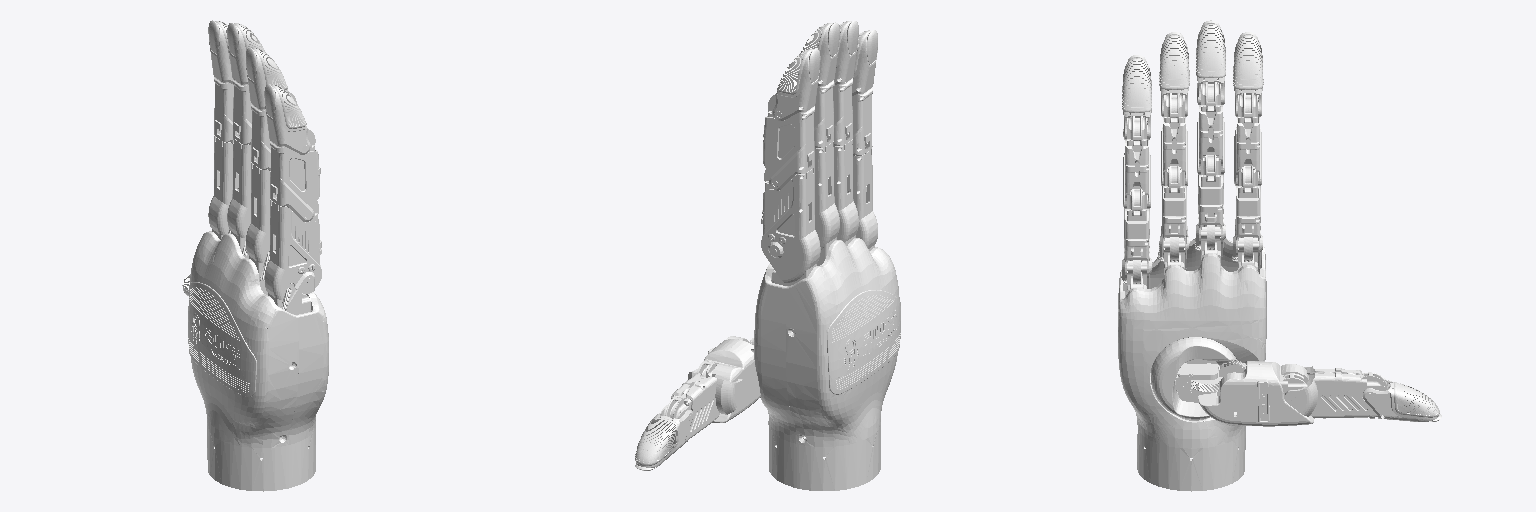
--- Render facts (derived) ---
The picture shows the robot from 3 angles, left to right: view 1: azimuth 30°, elevation 25°; view 2: azimuth 150°, elevation 25°; view 3: azimuth 270°, elevation 25°; orthographic projection.
Robot: L25-dof-urdf — 22 links, 21 joints (21 revolute); root link base_link; default pose: all joints at 0.
Visible links, largest first — view 1: base_link, little_joint1, little_joint2, little_joint3, ring_joint1, middle_joint1, index_joint1, ring_joint3, middle_joint3, index_joint2, index_joint3, ring_joint2 (+2 smaller); view 2: base_link, index_joint1, index_joint2, thumb_joint3, thumb_joint2, index_joint3, thumb_joint4, middle_joint1, ring_joint1, little_joint1, middle_joint3, little_joint3 (+4 smaller); view 3: base_link, thumb_joint2, thumb_joint0, thumb_joint3, thumb_joint4, middle_joint1, little_joint1, index_joint1, ring_joint1, little_joint2, index_joint2, middle_joint2 (+6 smaller).
Boxes of the visible links, bbox=[...] form: base_link: bbox=[188, 231, 328, 491]; little_joint1: bbox=[264, 199, 321, 299]; little_joint2: bbox=[270, 129, 320, 221]; little_joint3: bbox=[264, 85, 310, 154]; ring_joint1: bbox=[246, 162, 270, 262]; middle_joint1: bbox=[227, 138, 250, 237]; index_joint1: bbox=[208, 135, 232, 235]; ring_joint3: bbox=[246, 48, 288, 109]; middle_joint3: bbox=[227, 23, 265, 83]; index_joint2: bbox=[214, 76, 233, 142]; index_joint3: bbox=[208, 20, 232, 83]; ring_joint2: bbox=[251, 92, 296, 170]; base_link: bbox=[754, 238, 900, 490]; index_joint1: bbox=[761, 167, 820, 282]; index_joint2: bbox=[763, 94, 814, 190]; thumb_joint3: bbox=[660, 369, 745, 443]; thumb_joint2: bbox=[694, 336, 760, 422]; index_joint3: bbox=[773, 49, 820, 120]; thumb_joint4: bbox=[635, 405, 692, 470]; middle_joint1: bbox=[815, 141, 839, 249]; ring_joint1: bbox=[834, 139, 858, 241]; little_joint1: bbox=[853, 149, 877, 248]; middle_joint3: bbox=[801, 22, 839, 85]; little_joint3: bbox=[852, 30, 877, 95]; base_link: bbox=[1118, 238, 1266, 491]; thumb_joint2: bbox=[1198, 361, 1314, 426]; thumb_joint0: bbox=[1151, 337, 1237, 419]; thumb_joint3: bbox=[1285, 366, 1387, 418]; thumb_joint4: bbox=[1363, 380, 1441, 421]; middle_joint1: bbox=[1196, 155, 1225, 256]; little_joint1: bbox=[1122, 189, 1151, 288]; index_joint1: bbox=[1233, 166, 1262, 268]; ring_joint1: bbox=[1160, 166, 1188, 268]; little_joint2: bbox=[1123, 114, 1150, 208]; index_joint2: bbox=[1234, 91, 1261, 185]; middle_joint2: bbox=[1197, 82, 1224, 174].
Bounding box of the posed robot: 0.0835 × 0.1918 × 0.287 m (x, y, z).
Meshes: 22 distinct files referenced, 22 mesh visuals loaded (22 binary STL).

URDF robot description (L25-dof-urdf):
<?xml version="1.0" encoding="utf-8"?>
<!-- This URDF was automatically created by SolidWorks to URDF Exporter! Originally created by Stephen Brawner ([email redacted]) 
     Commit Version: 1.6.0-1-g15f4949  Build Version: 1.6.7594.29634
     For more information, please see http://wiki.ros.org/sw_urdf_exporter -->
<robot
  name="L25-dof-urdf">
  <link
    name="base_link">
    <inertial>
      <origin
        xyz="0.00621503226470385 0.0108465601453257 0.132265837138919"
        rpy="0 0 0" />
      <mass
        value="0.32877219415425" />
      <inertia
        ixx="0.00211933247724318"
        ixy="-9.55589501729291E-05"
        ixz="0.000118349663792249"
        iyy="0.00182200011902475"
        iyz="0.000195769075826641"
        izz="0.000521225707663844" />
    </inertial>
    <visual>
      <origin
        xyz="0 0 0"
        rpy="0 0 0" />
      <geometry>
        <mesh
          filename="meshes/base_link.STL" />
      </geometry>
      <material
        name="">
        <color
          rgba="1 1 1 1" />
      </material>
    </visual>
    <!-- <collision>
      <origin
        xyz="0 0 0"
        rpy="0 0 0" />
      <geometry>
        <mesh
          filename="meshes/base_link.STL" />
      </geometry>
    </collision> -->
  </link>
  <link
    name="little_joint0">
    <inertial>
      <origin
        xyz="0.020716 0.042933 0.014018"
        rpy="0 0 0" />
      <mass
        value="0.32877" />
      <inertia
        ixx="0.0021193"
        ixy="-9.5606E-05"
        ixz="0.00011832"
        iyy="0.0018219"
        iyz="0.00019626"
        izz="0.00052137" />
    </inertial>
    <visual>
      <origin
        xyz="0 0 0"
        rpy="0 0 0" />
      <geometry>
        <mesh
          filename="meshes/little_joint0.STL" />
      </geometry>
      <material
        name="">
        <color
          rgba="1 1 1 1" />
      </material>
    </visual>
    <collision>
      <origin
        xyz="0 0 0"
        rpy="0 0 0" />
      <geometry>
        <mesh
          filename="meshes/little_joint0.STL" />
      </geometry>
    </collision>
  </link>
  <joint
    name="little_joint0"
    type="revolute">
    <origin
      xyz="-0.0145009562193206 -0.0320919792691349 0.118263878374773"
      rpy="-0.00037803547605537 0 0" />
    <parent
      link="base_link" />
    <child
      link="little_joint0" />
    <axis
      xyz="-1 0 0" />
    <limit
      lower="-0.18"
      upper="0"
      effort="100"
      velocity="1" />
  </joint>
  <link
    name="little_joint1">
    <inertial>
      <origin
        xyz="-0.00214168609263107 0.0485330860849423 -0.00405674315364571"
        rpy="0 0 0" />
      <mass
        value="0.32877219415425" />
      <inertia
        ixx="0.00211933102791474"
        ixy="-9.56059385437907E-05"
        ixz="0.000118315018274888"
        iyy="0.00182185336716098"
        iyz="0.00019625986190147"
        izz="0.000521373908856054" />
    </inertial>
    <visual>
      <origin
        xyz="0 0 0"
        rpy="0 0 0" />
      <geometry>
        <mesh
          filename="meshes/little_joint1.STL" />
      </geometry>
      <material
        name="">
        <color
          rgba="1 1 1 1" />
      </material>
    </visual>
    <collision>
      <origin
        xyz="0 0 0"
        rpy="0 0 0" />
      <geometry>
        <mesh
          filename="meshes/little_joint1.STL" />
      </geometry>
    </collision>
  </link>
  <joint
    name="little_joint1"
    type="revolute">
    <origin
      xyz="0.0228580000009321 -0.00559999999977892 0.01807493320808"
      rpy="0 0 0" />
    <parent
      link="little_joint0" />
    <child
      link="little_joint1" />
    <axis
      xyz="0 -1 0" />
    <limit
      lower="-1.57"
      upper="0"
      effort="100"
      velocity="1" />
  </joint>
  <link
    name="little_joint2">
    <inertial>
      <origin
        xyz="-0.00198368601332251 0.0489330860866223 -0.046056743261512"
        rpy="0 0 0" />
      <mass
        value="0.32877219415425" />
      <inertia
        ixx="0.00211933102791212"
        ixy="-9.56059385478664E-05"
        ixz="0.000118315018277577"
        iyy="0.0018218533671636"
        iyz="0.000196259861899849"
        izz="0.000521373908856054" />
    </inertial>
    <visual>
      <origin
        xyz="0 0 0"
        rpy="0 0 0" />
      <geometry>
        <mesh
          filename="meshes/little_joint2.STL" />
      </geometry>
      <material
        name="">
        <color
          rgba="1 1 1 1" />
      </material>
    </visual>
    <collision>
      <origin
        xyz="0 0 0"
        rpy="0 0 0" />
      <geometry>
        <mesh
          filename="meshes/little_joint2.STL" />
      </geometry>
    </collision>
  </link>
  <joint
    name="little_joint2"
    type="revolute">
    <origin
      xyz="-0.000158 -0.0004 0.042"
      rpy="0 0 0" />
    <parent
      link="little_joint1" />
    <child
      link="little_joint2" />
    <axis
      xyz="0 -1 0" />
    <limit
      lower="-1.57"
      upper="0"
      effort="100"
      velocity="1" />
  </joint>
  <link
    name="little_joint3">
    <inertial>
      <origin
        xyz="0.00120154771320423 0.0489330860812678 -0.0902886576532678"
        rpy="0 0 0" />
      <mass
        value="0.32877219415425" />
      <inertia
        ixx="0.00211691244010353"
        ixy="-9.74854641911423E-05"
        ixz="0.000133631559114514"
        iyy="0.0018218533671397"
        iyz="0.00019533308265496"
        izz="0.000523792496688547" />
    </inertial>
    <visual>
      <origin
        xyz="0 0 0"
        rpy="0 0 0" />
      <geometry>
        <mesh
          filename="meshes/little_joint3.STL" />
      </geometry>
      <material
        name="">
        <color
          rgba="1 1 1 1" />
      </material>
    </visual>
    <collision>
      <origin
        xyz="0 0 0"
        rpy="0 0 0" />
      <geometry>
        <mesh
          filename="meshes/little_joint3.STL" />
      </geometry>
    </collision>
  </link>
  <joint
    name="little_joint3"
    type="revolute">
    <origin
      xyz="-0.00231848278489424 0 0.0442392883752598"
      rpy="0 0.00959931088167996 0" />
    <parent
      link="little_joint2" />
    <child
      link="little_joint3" />
    <axis
      xyz="0 -1 0" />
    <limit
      lower="-1.57"
      upper="0"
      effort="100"
      velocity="1" />
  </joint>
  <link
    name="ring_joint0">
    <inertial>
      <origin
        xyz="0.0207161581862009 0.0208330850380634 -0.000919748012983387"
        rpy="0 0 0" />
      <mass
        value="0.32877219415425" />
      <inertia
        ixx="0.00211933249194902"
        ixy="-9.56036651402447E-05"
        ixz="0.000118313512090546"
        iyy="0.001821851888846"
        iyz="0.000196260815112059"
        izz="0.000521373923136746" />
    </inertial>
    <visual>
      <origin
        xyz="0 0 0"
        rpy="0 0 0" />
      <geometry>
        <mesh
          filename="meshes/ring_joint0.STL" />
      </geometry>
      <material
        name="">
        <color
          rgba="1 1 1 1" />
      </material>
    </visual>
    <collision>
      <origin
        xyz="0 0 0"
        rpy="0 0 0" />
      <geometry>
        <mesh
          filename="meshes/ring_joint0.STL" />
      </geometry>
    </collision>
  </link>
  <joint
    name="ring_joint0"
    type="revolute">
    <origin
      xyz="-0.014501 -0.0099862 0.13319"
      rpy="-0.00037807 0 0" />
    <parent
      link="base_link" />
    <child
      link="ring_joint0" />
    <axis
      xyz="-1 0 0" />
    <limit
      lower="-0.18"
      upper="0"
      effort="100"
      velocity="1" />
  </joint>
  <link
    name="ring_joint1">
    <inertial>
      <origin
        xyz="-0.00214168230263926 0.026432926419807 -0.0189946812210613"
        rpy="0 0 0" />
      <mass
        value="0.32877219415425" />
      <inertia
        ixx="0.00211933102791426"
        ixy="-9.56059428490103E-05"
        ixz="0.00011831501479742"
        iyy="0.00182185335288077"
        iyz="0.000196259909215142"
        izz="0.000521373923136746" />
    </inertial>
    <visual>
      <origin
        xyz="0 0 0"
        rpy="0 0 0" />
      <geometry>
        <mesh
          filename="meshes/ring_joint1.STL" />
      </geometry>
      <material
        name="">
        <color
          rgba="1 1 1 1" />
      </material>
    </visual>
    <collision>
      <origin
        xyz="0 0 0"
        rpy="0 0 0" />
      <geometry>
        <mesh
          filename="meshes/ring_joint1.STL" />
      </geometry>
    </collision>
  </link>
  <joint
    name="ring_joint1"
    type="revolute">
    <origin
      xyz="0.0228580428777866 -0.00559982498274811 0.0180749332080779"
      rpy="0 0 0" />
    <parent
      link="ring_joint0" />
    <child
      link="ring_joint1" />
    <axis
      xyz="0 -1 0" />
    <limit
      lower="-1.57"
      upper="0"
      effort="100"
      velocity="1" />
  </joint>
  <link
    name="ring_joint2">
    <inertial>
      <origin
        xyz="-0.00198368223059876 0.026832926418296 -0.0609946813442873"
        rpy="0 0 0" />
      <mass
        value="0.32877219415425" />
      <inertia
        ixx="0.00211933102791205"
        ixy="-9.56059428524492E-05"
        ixz="0.000118315014799689"
        iyy="0.00182185335288298"
        iyz="0.000196259909213774"
        izz="0.000521373923136746" />
    </inertial>
    <visual>
      <origin
        xyz="0 0 0"
        rpy="0 0 0" />
      <geometry>
        <mesh
          filename="meshes/ring_joint2.STL" />
      </geometry>
      <material
        name="">
        <color
          rgba="1 1 1 1" />
      </material>
    </visual>
    <collision>
      <origin
        xyz="0 0 0"
        rpy="0 0 0" />
      <geometry>
        <mesh
          filename="meshes/ring_joint2.STL" />
      </geometry>
    </collision>
  </link>
  <joint
    name="ring_joint2"
    type="revolute">
    <origin
      xyz="-0.000158000071730313 -0.000399999998466016 0.042000000123226"
      rpy="0 0 0" />
    <parent
      link="ring_joint1" />
    <child
      link="ring_joint2" />
    <axis
      xyz="0 -1 0" />
    <limit
      lower="-1.57"
      upper="0"
      effort="100"
      velocity="1" />
  </joint>
  <link
    name="ring_joint3">
    <inertial>
      <origin
        xyz="-0.0169477765801979 0.0268329263415627 -0.103860836482852"
        rpy="0 0 0" />
      <mass
        value="0.32877219415425" />
      <inertia
        ixx="0.0021145786799758"
        ixy="-6.20852034907064E-05"
        ixz="-0.000146866967522173"
        iyy="0.00182185335319532"
        iyz="0.000209293753590955"
        izz="0.000526126270760653" />
    </inertial>
    <visual>
      <origin
        xyz="0 0 0"
        rpy="0 0 0" />
      <geometry>
        <mesh
          filename="meshes/ring_joint3.STL" />
      </geometry>
      <material
        name="">
        <color
          rgba="1 1 1 1" />
      </material>
    </visual>
    <collision>
      <origin
        xyz="0 0 0"
        rpy="0 0 0" />
      <geometry>
        <mesh
          filename="meshes/ring_joint3.STL" />
      </geometry>
    </collision>
  </link>
  <joint
    name="ring_joint3"
    type="revolute">
    <origin
      xyz="-0.0023184828540642 0 0.0442392884056311"
      rpy="0 -0.164933614843137 0" />
    <parent
      link="ring_joint2" />
    <child
      link="ring_joint3" />
    <axis
      xyz="0 -1 0" />
    <limit
      lower="-1.57"
      upper="0"
      effort="100"
      velocity="1" />
  </joint>
  <link
    name="middle_joint0">
    <inertial>
      <origin
        xyz="0.0207292141880982 -0.000766915979385691 -0.00841975476288125"
        rpy="0 0 0" />
      <mass
        value="0.32877219415425" />
      <inertia
        ixx="0.00211933102791433"
        ixy="-9.56059192600446E-05"
        ixz="0.000118315033858293"
        iyy="0.00182185343113886"
        iyz="0.000196259649933689"
        izz="0.000521373844878583" />
    </inertial>
    <visual>
      <origin
        xyz="0 0 0"
        rpy="0 0 0" />
      <geometry>
        <mesh
          filename="meshes/middle_joint0.STL" />
      </geometry>
      <material
        name="">
        <color
          rgba="1 1 1 1" />
      </material>
    </visual>
    <collision>
      <origin
        xyz="0 0 0"
        rpy="0 0 0" />
      <geometry>
        <mesh
          filename="meshes/middle_joint0.STL" />
      </geometry>
    </collision>
  </link>
  <joint
    name="middle_joint0"
    type="revolute">
    <origin
      xyz="-0.014514 0.011617 0.14069"
      rpy="-0.00037787 0 0" />
    <parent
      link="base_link" />
    <child
      link="middle_joint0" />
    <axis
      xyz="-1 0 0" />
    <limit
      lower="0"
      upper="0"
      effort="100"
      velocity="1" />
  </joint>
  <link
    name="middle_joint1">
    <inertial>
      <origin
        xyz="-0.00212878581283385 0.00483308539274485 -0.0264946880959601"
        rpy="0 0 0" />
      <mass
        value="0.32877219415425" />
      <inertia
        ixx="0.00211933102791433"
        ixy="-9.56059385444273E-05"
        ixz="0.000118315018275308"
        iyy="0.00182185336716139"
        iyz="0.000196259861901214"
        izz="0.000521373908856053" />
    </inertial>
    <visual>
      <origin
        xyz="0 0 0"
        rpy="0 0 0" />
      <geometry>
        <mesh
          filename="meshes/middle_joint1.STL" />
      </geometry>
      <material
        name="">
        <color
          rgba="1 1 1 1" />
      </material>
    </visual>
    <collision>
      <origin
        xyz="0 0 0"
        rpy="0 0 0" />
      <geometry>
        <mesh
          filename="meshes/middle_joint1.STL" />
      </geometry>
    </collision>
  </link>
  <joint
    name="middle_joint1"
    type="revolute">
    <origin
      xyz="0.0228580000009321 -0.00559999705371297 0.0180749341208319"
      rpy="0 0 0" />
    <parent
      link="middle_joint0" />
    <child
      link="middle_joint1" />
    <axis
      xyz="0 -1 0" />
    <limit
      lower="-1.57"
      upper="0"
      effort="100"
      velocity="1" />
  </joint>
  <link
    name="middle_joint2">
    <inertial>
      <origin
        xyz="-0.00197078574782578 0.00523308539310241 -0.0684946882012683"
        rpy="0 0 0" />
      <mass
        value="0.32877219415425" />
      <inertia
        ixx="0.00211933102791212"
        ixy="-9.56059385478662E-05"
        ixz="0.000118315018277577"
        iyy="0.0018218533671636"
        iyz="0.000196259861899847"
        izz="0.000521373908856053" />
    </inertial>
    <visual>
      <origin
        xyz="0 0 0"
        rpy="0 0 0" />
      <geometry>
        <mesh
          filename="meshes/middle_joint2.STL" />
      </geometry>
      <material
        name="">
        <color
          rgba="1 1 1 1" />
      </material>
    </visual>
    <collision>
      <origin
        xyz="0 0 0"
        rpy="0 0 0" />
      <geometry>
        <mesh
          filename="meshes/middle_joint2.STL" />
      </geometry>
    </collision>
  </link>
  <joint
    name="middle_joint2"
    type="revolute">
    <origin
      xyz="-0.000158000064947573 -0.000400000000334799 0.0420000001053081"
      rpy="0 0 0" />
    <parent
      link="middle_joint1" />
    <child
      link="middle_joint2" />
    <axis
      xyz="0 -1 0" />
    <limit
      lower="-1.57"
      upper="0"
      effort="100"
      velocity="1" />
  </joint>
  <link
    name="middle_joint3">
    <inertial>
      <origin
        xyz="-0.0181664575857065 0.00523308527418029 -0.111261180105638"
        rpy="0 0 0" />
      <mass
        value="0.32877219415425" />
      <inertia
        ixx="0.00211457868071744"
        ixy="-6.20852070128642E-05"
        ixz="-0.000146866966544686"
        iyy="0.00182185336747595"
        iyz="0.000209293706212363"
        izz="0.000526126255738385" />
    </inertial>
    <visual>
      <origin
        xyz="0 0 0"
        rpy="0 0 0" />
      <geometry>
        <mesh
          filename="meshes/middle_joint3.STL" />
      </geometry>
      <material
        name="">
        <color
          rgba="1 1 1 1" />
      </material>
    </visual>
    <collision>
      <origin
        xyz="0 0 0"
        rpy="0 0 0" />
      <geometry>
        <mesh
          filename="meshes/middle_joint3.STL" />
      </geometry>
    </collision>
  </link>
  <joint
    name="middle_joint3"
    type="revolute">
    <origin
      xyz="-0.00231848285406422 0 0.0442392884222843"
      rpy="0 -0.164933614843136 0" />
    <parent
      link="middle_joint2" />
    <child
      link="middle_joint3" />
    <axis
      xyz="0 -1 0" />
    <limit
      lower="-1.57"
      upper="0"
      effort="100"
      velocity="1" />
  </joint>
  <link
    name="index_joint0">
    <inertial>
      <origin
        xyz="0.0207153675602789 -0.0228669147554812 -0.000919751158314445"
        rpy="0 0 0" />
      <mass
        value="0.32877219415425" />
      <inertia
        ixx="0.00211933102791433"
        ixy="-9.56059192600444E-05"
        ixz="0.000118315033858293"
        iyy="0.00182185343113886"
        iyz="0.000196259649933687"
        izz="0.000521373844878583" />
    </inertial>
    <visual>
      <origin
        xyz="0 0 0"
        rpy="0 0 0" />
      <geometry>
        <mesh
          filename="meshes/index_joint0.STL" />
      </geometry>
      <material
        name="">
        <color
          rgba="1 1 1 1" />
      </material>
    </visual>
    <collision>
      <origin
        xyz="0 0 0"
        rpy="0 0 0" />
      <geometry>
        <mesh
          filename="meshes/index_joint0.STL" />
      </geometry>
    </collision>
  </link>
  <joint
    name="index_joint0"
    type="revolute">
    <origin
      xyz="-0.014501 0.033714 0.13318"
      rpy="-0.00037787 0 0" />
    <parent
      link="base_link" />
    <child
      link="index_joint0" />
    <axis
      xyz="-1 0 0" />
    <limit
      lower="0"
      upper="0.18"
      effort="100"
      velocity="1" />
  </joint>
  <link
    name="index_joint1">
    <inertial>
      <origin
        xyz="-0.00214263244065325 -0.0172669146057896 -0.0189946880935125"
        rpy="0 0 0" />
      <mass
        value="0.32877219415425" />
      <inertia
        ixx="0.00211933102791433"
        ixy="-9.56059385444273E-05"
        ixz="0.000118315018275309"
        iyy="0.00182185336716139"
        iyz="0.000196259861901214"
        izz="0.000521373908856053" />
    </inertial>
    <visual>
      <origin
        xyz="0 0 0"
        rpy="0 0 0" />
      <geometry>
        <mesh
          filename="meshes/index_joint1.STL" />
      </geometry>
      <material
        name="">
        <color
          rgba="1 1 1 1" />
      </material>
    </visual>
    <collision>
      <origin
        xyz="0 0 0"
        rpy="0 0 0" />
      <geometry>
        <mesh
          filename="meshes/index_joint1.STL" />
      </geometry>
    </collision>
  </link>
  <joint
    name="index_joint1"
    type="revolute">
    <origin
      xyz="0.0228580000009321 -0.00559999705371292 0.018074934120832"
      rpy="0 0 0" />
    <parent
      link="index_joint0" />
    <child
      link="index_joint1" />
    <axis
      xyz="0 -1 0" />
    <limit
      lower="-1.57"
      upper="0"
      effort="100"
      velocity="1" />
  </joint>
  <link
    name="index_joint2">
    <inertial>
      <origin
        xyz="-0.00139904296279192 -0.0168669146016086 -0.0610109287989543"
        rpy="0 0 0" />
      <mass
        value="0.32877219415425" />
      <inertia
        ixx="0.00211691244010127"
        ixy="-9.74854641945479E-05"
        ixz="0.000133631559116768"
        iyy="0.00182185336714196"
        iyz="0.000195333082653386"
        izz="0.000523792496688537" />
    </inertial>
    <visual>
      <origin
        xyz="0 0 0"
        rpy="0 0 0" />
      <geometry>
        <mesh
          filename="meshes/index_joint2.STL" />
      </geometry>
      <material
        name="">
        <color
          rgba="1 1 1 1" />
      </material>
    </visual>
    <collision>
      <origin
        xyz="0 0 0"
        rpy="0 0 0" />
      <geometry>
        <mesh
          filename="meshes/index_joint2.STL" />
      </geometry>
    </collision>
  </link>
  <joint
    name="index_joint2"
    type="revolute">
    <origin
      xyz="-0.000158000057942674 -0.000400000000778222 0.0420000001040143"
      rpy="0 0.00959931088167681 0" />
    <parent
      link="index_joint1" />
    <child
      link="index_joint2" />
    <axis
      xyz="0 -1 0" />
    <limit
      lower="-1.57"
      upper="0"
      effort="100"
      velocity="1" />
  </joint>
  <link
    name="index_joint3">
    <inertial>
      <origin
        xyz="-0.0169487148901265 -0.016866914717536 -0.103860687240916"
        rpy="0 0 0" />
      <mass
        value="0.32877219415425" />
      <inertia
        ixx="0.00211457868075489"
        ixy="-6.20852069084846E-05"
        ixz="-0.000146866966614614"
        iyy="0.00182185336739264"
        iyz="0.000209293706310013"
        izz="0.000526126255784241" />
    </inertial>
    <visual>
      <origin
        xyz="0 0 0"
        rpy="0 0 0" />
      <geometry>
        <mesh
          filename="meshes/index_joint3.STL" />
      </geometry>
      <material
        name="">
        <color
          rgba="1 1 1 1" />
      </material>
    </visual>
    <collision>
      <origin
        xyz="0 0 0"
        rpy="0 0 0" />
      <geometry>
        <mesh
          filename="meshes/index_joint3.STL" />
      </geometry>
    </collision>
  </link>
  <joint
    name="index_joint3"
    type="revolute">
    <origin
      xyz="-0.00274303625209979 0 0.0442149946982545"
      rpy="0 -0.174532925724814 0" />
    <parent
      link="index_joint2" />
    <child
      link="index_joint3" />
    <axis
      xyz="0 -1 0" />
    <limit
      lower="-1.57"
      upper="0"
      effort="100"
      velocity="1" />
  </joint>
  <link
    name="thumb_joint0">
    <inertial>
      <origin
        xyz="0 0 0"
        rpy="0 0 0" />
      <mass
        value="0.32877219415425" />
      <inertia
        ixx="1e-4"
        ixy="0"
        ixz="0"
        iyy="1e-4"
        iyz="0"
        izz="1e-4" />
    </inertial>
    <visual>
      <origin
        xyz="0 0 0"
        rpy="0 0 0" />
      <geometry>
        <mesh
          filename="meshes/thumb_joint0.STL" />
      </geometry>
      <material
        name="">
        <color
          rgba="1 1 1 1" />
      </material>
    </visual>
    <collision>
      <origin
        xyz="0 0 0"
        rpy="0 0 0" />
      <geometry>
        <mesh
          filename="meshes/thumb_joint0.STL" />
      </geometry>
    </collision>
  </link>
  <joint
    name="thumb_joint0"
    type="revolute">
    <origin
      xyz="-0.0180999557065847 0.0024402875836656 0.0712636987463404"
      rpy="0 0 0" />
    <parent
      link="base_link" />
    <child
      link="thumb_joint0" />
    <axis
      xyz="-1 0 0" />
    <limit
      lower="-0.61"
      upper="0.61"
      effort="100"
      velocity="1" />
  </joint>
  <link
    name="thumb_joint1">
    <inertial>
      <origin
        xyz="-0.0236067439114977 -5.99307717699948E-05 0.0549771383925748"
        rpy="0 0 0" />
      <mass
        value="0.32877219415425" />
      <inertia
        ixx="0.00211933247723892"
        ixy="-9.55589501795287E-05"
        ixz="0.000118349663796751"
        iyy="0.00182200011902898"
        iyz="0.000195769075824002"
        izz="0.000521225707663866" />
    </inertial>
    <visual>
      <origin
        xyz="0 0 0"
        rpy="0 0 0" />
      <geometry>
        <mesh
          filename="meshes/thumb_joint1.STL" />
      </geometry>
      <material
        name="">
        <color
          rgba="1 1 1 1" />
      </material>
    </visual>
    <!-- <collision>
      <origin
        xyz="0 0 0"
        rpy="0 0 0" />
      <geometry>
        <mesh
          filename="meshes/thumb_joint1.STL" />
      </geometry>
    </collision> -->
  </link>
  <joint
    name="thumb_joint1"
    type="revolute">
    <origin
      xyz="0.0479217318829664 0.0084662033328925 0.00602500000000102"
      rpy="0 0 0" />
    <parent
      link="thumb_joint0" />
    <child
      link="thumb_joint1" />
    <axis
      xyz="0 0 1" />
    <limit
      lower="-1.43"
      upper="0"
      effort="100"
      velocity="1" />
  </joint>
  <link
    name="thumb_joint2">
    <inertial>
      <origin
        xyz="-0.0187905050512845 -0.0139775874381387 0.0594896664156663"
        rpy="0 0 0" />
      <mass
        value="0.32877219415425" />
      <inertia
        ixx="0.00211669064879919"
        ixy="-9.95491575973204E-05"
        ixz="0.000120989351492921"
        iyy="0.00182464194744192"
        iyz="0.000194148785300313"
        izz="0.000521225707690666" />
    </inertial>
    <visual>
      <origin
        xyz="0 0 0"
        rpy="0 0 0" />
      <geometry>
        <mesh
          filename="meshes/thumb_joint2.STL" />
      </geometry>
      <material
        name="">
        <color
          rgba="1 1 1 1" />
      </material>
    </visual>
    <!-- <collision>
      <origin
        xyz="0 0 0"
        rpy="0 0 0" />
      <geometry>
        <mesh
          filename="meshes/thumb_joint2.STL" />
      </geometry>
    </collision> -->
  </link>
  <joint
    name="thumb_joint2"
    type="revolute">
    <origin
      xyz="-0.00500720497800329 0.014170781855748 -0.00451252802517245"
      rpy="0 0 0.0135395038660623" />
    <parent
      link="thumb_joint1" />
    <child
      link="thumb_joint2" />
    <axis
      xyz="-1 0 0" />
    <limit
      lower="-1.57"
      upper="0"
      effort="100"
      velocity="1" />
  </joint>
  <link
    name="thumb_joint3">
    <inertial>
      <origin
        xyz="-0.0168155050481088 -0.0473895790800812 0.0633325737583373"
        rpy="0 0 0" />
      <mass
        value="0.32877219415425" />
      <inertia
        ixx="0.00211669064889714"
        ixy="-9.77859625515796E-05"
        ixz="0.000122418803322314"
        iyy="0.001829993001109"
        iyz="0.00017518694793275"
        izz="0.000515874653925634" />
    </inertial>
    <visual>
      <origin
        xyz="0 0 0"
        rpy="0 0 0" />
      <geometry>
        <mesh
          filename="meshes/thumb_joint3.STL" />
      </geometry>
      <material
        name="">
        <color
          rgba="1 1 1 1" />
      </material>
    </visual>
    <collision>
      <origin
        xyz="0 0 0"
        rpy="0 0 0" />
      <geometry>
        <mesh
          filename="meshes/thumb_joint3.STL" />
      </geometry>
    </collision>
  </link>
  <joint
    name="thumb_joint3"
    type="revolute">
    <origin
      xyz="-0.00197499997911766 0.0343245048236186 -0.0031497380081474"
      rpy="0.0144873048992262 0 0" />
    <parent
      link="thumb_joint2" />
    <child
      link="thumb_joint3" />
    <axis
      xyz="-1 0 0" />
    <limit
      lower="-1.57"
      upper="0"
      effort="100"
      velocity="1" />
  </joint>
  <link
    name="thumb_joint4">
    <inertial>
      <origin
        xyz="-0.0226182347962135 -0.102628298109576 0.0522637194937735"
        rpy="0 0 0" />
      <mass
        value="0.32877219415425" />
      <inertia
        ixx="0.00212056051621502"
        ixy="-0.000107663066303932"
        ixz="0.000101290160722445"
        iyy="0.00175127568544453"
        iyz="0.000353171416260485"
        izz="0.000590722102272221" />
    </inertial>
    <visual>
      <origin
        xyz="0 0 0"
        rpy="0 0 0" />
      <geometry>
        <mesh
          filename="meshes/thumb_joint4.STL" />
      </geometry>
      <material
        name="">
        <color
          rgba="1 1 1 1" />
      </material>
    </visual>
    <collision>
      <origin
        xyz="0 0 0"
        rpy="0 0 0" />
      <geometry>
        <mesh
          filename="meshes/thumb_joint4.STL" />
      </geometry>
    </collision>
  </link>
  <joint
    name="thumb_joint4"
    type="revolute">
    <origin
      xyz="0.00759039640659842 0.0464556225710106 -0.00279668296467053"
      rpy="-0.141183209676017 -0.00245617604774753 -0.0172796279842042" />
    <parent
      link="thumb_joint3" />
    <child
      link="thumb_joint4" />
    <axis
      xyz="-1 0 0" />
    <limit
      lower="-1.57"
      upper="0"
      effort="100"
      velocity="1" />
  </joint>
</robot>
